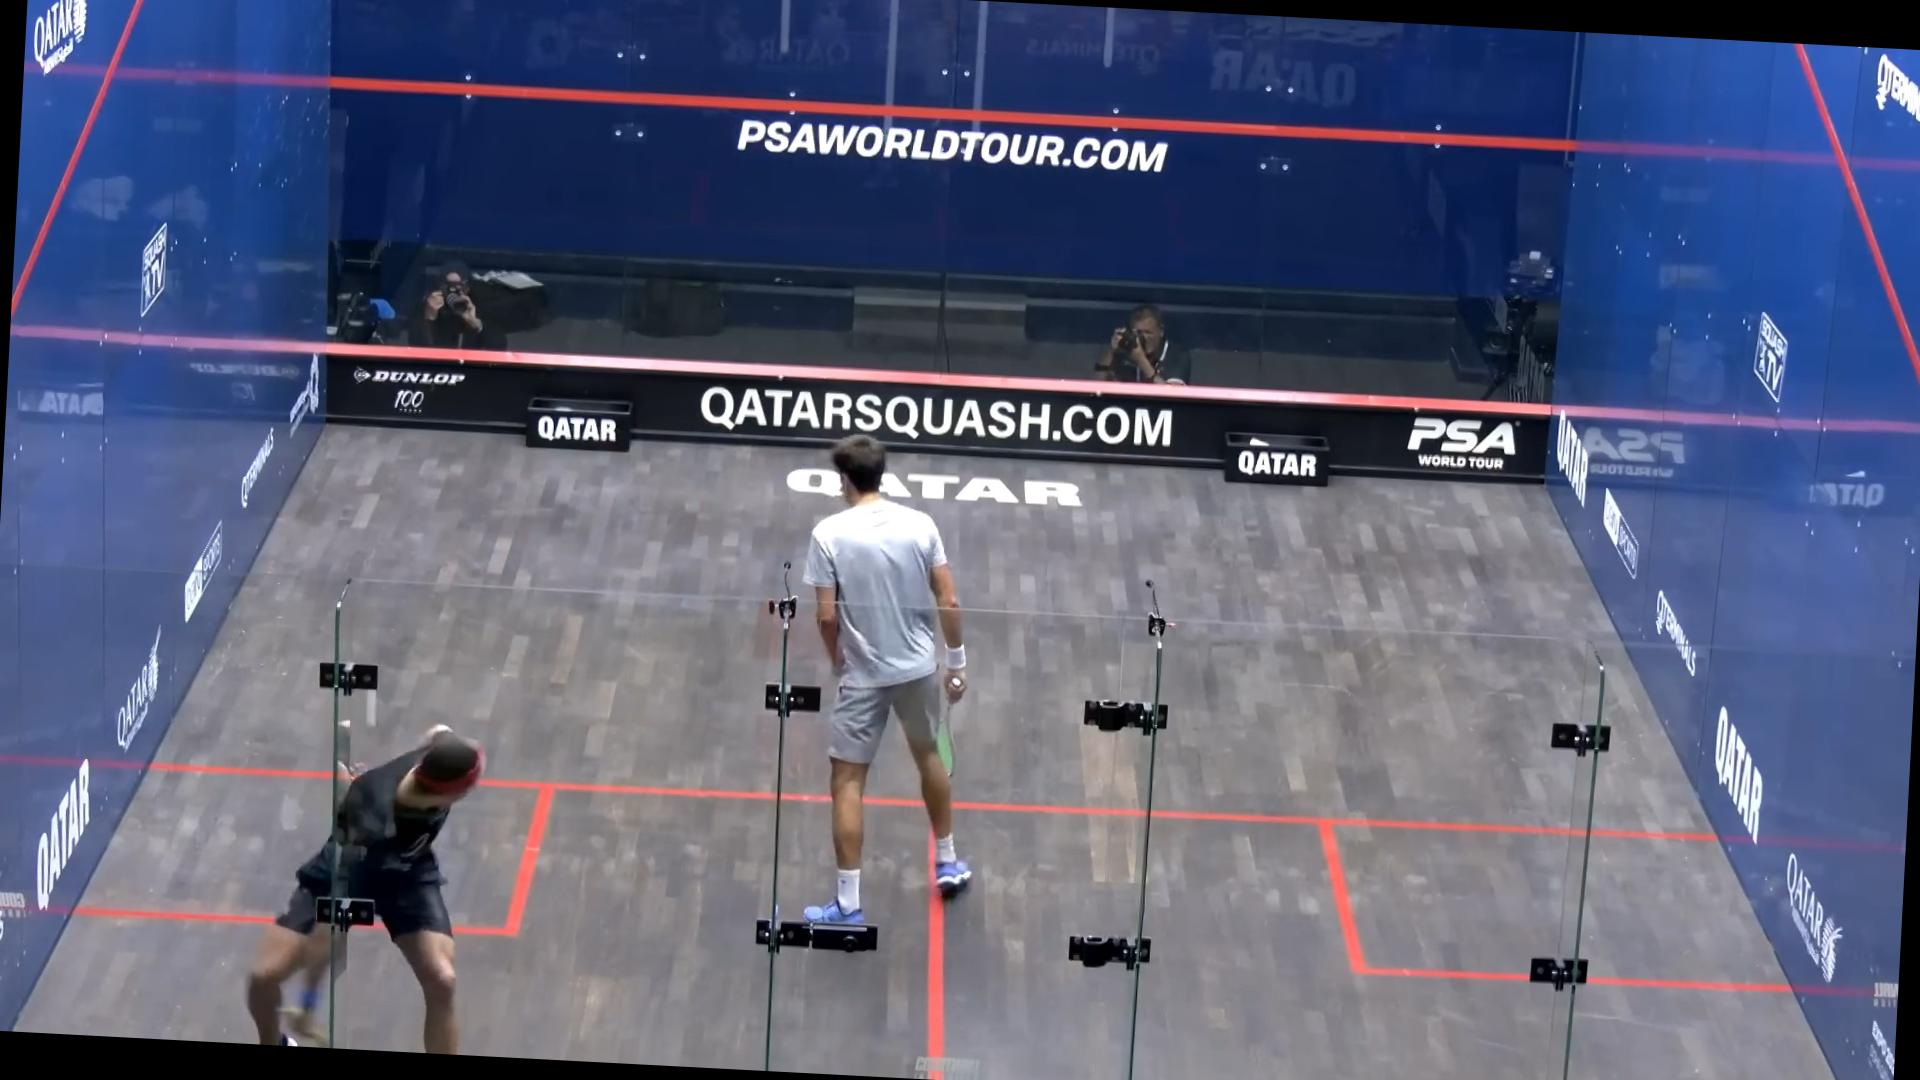Racket: (931, 698, 967, 781)
